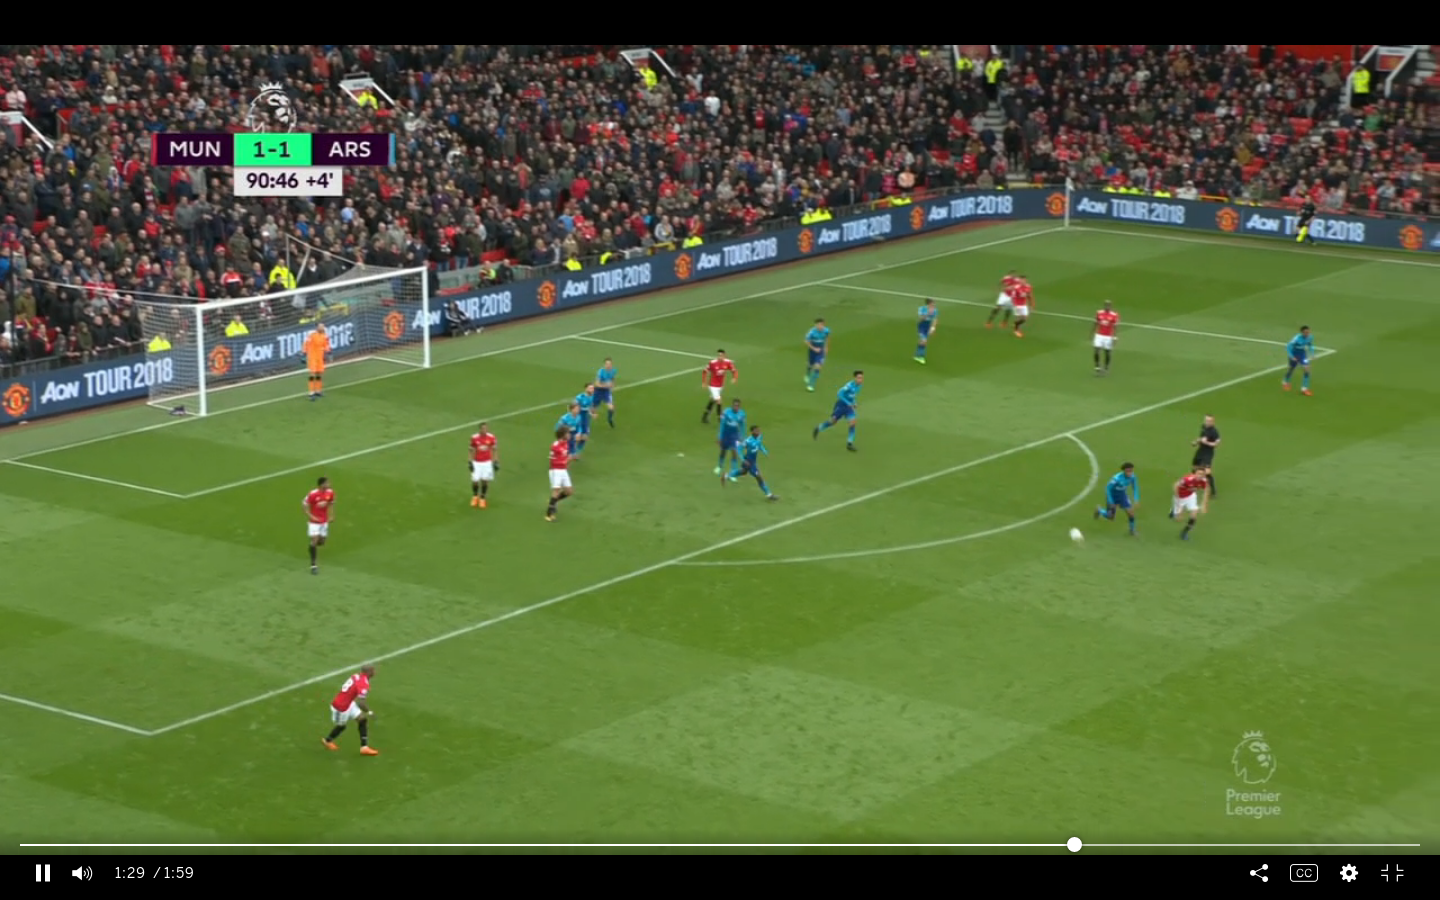referee: (1187, 411, 1219, 502)
soccer player: (319, 657, 384, 757), (813, 366, 870, 454), (298, 472, 338, 576), (462, 420, 507, 514), (1275, 322, 1327, 403), (732, 419, 776, 503), (1098, 463, 1142, 543), (1167, 471, 1212, 542), (701, 343, 735, 432), (712, 394, 744, 486), (1087, 299, 1124, 377), (298, 322, 333, 402), (544, 425, 572, 519), (908, 294, 942, 365), (801, 316, 830, 399), (593, 357, 619, 429), (556, 403, 585, 466), (1008, 279, 1033, 336)
soccerball: (1064, 517, 1087, 552)
